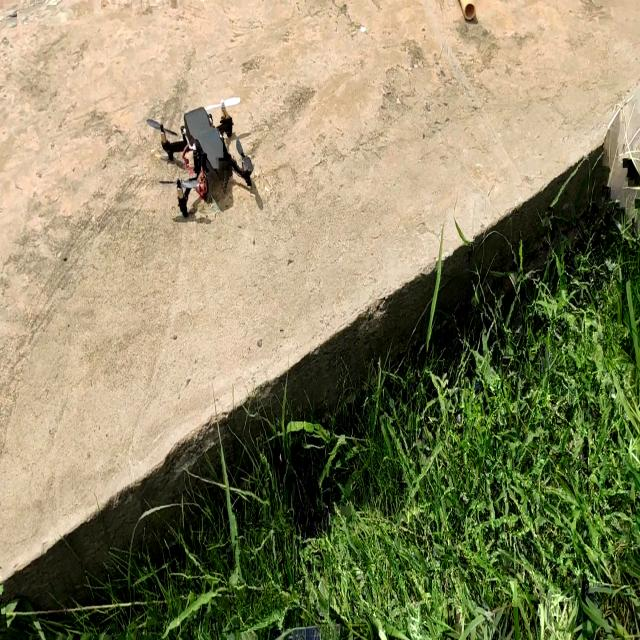drone: (134, 75, 275, 228)
